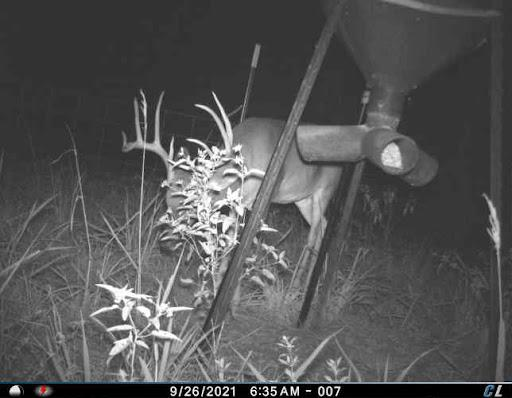Deer: (119, 83, 352, 313)
